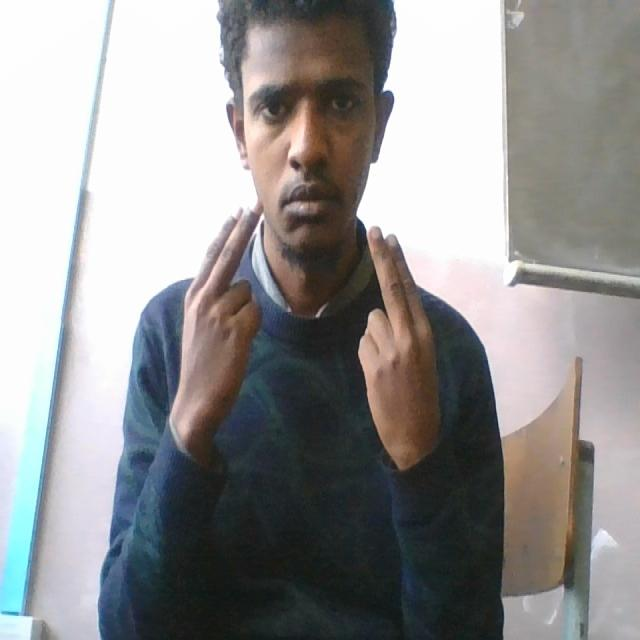zena: (173, 196, 450, 427)
